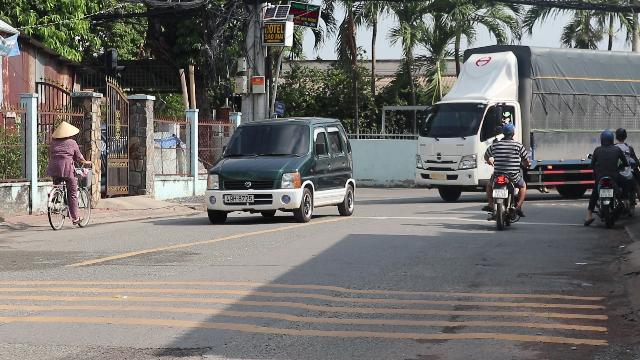helmet: (598, 129, 614, 145)
licenseplate: (493, 190, 507, 198), (599, 188, 613, 196)
motorcyclist: (584, 127, 638, 227), (479, 120, 528, 228)
nohelmet: (500, 122, 516, 138)
